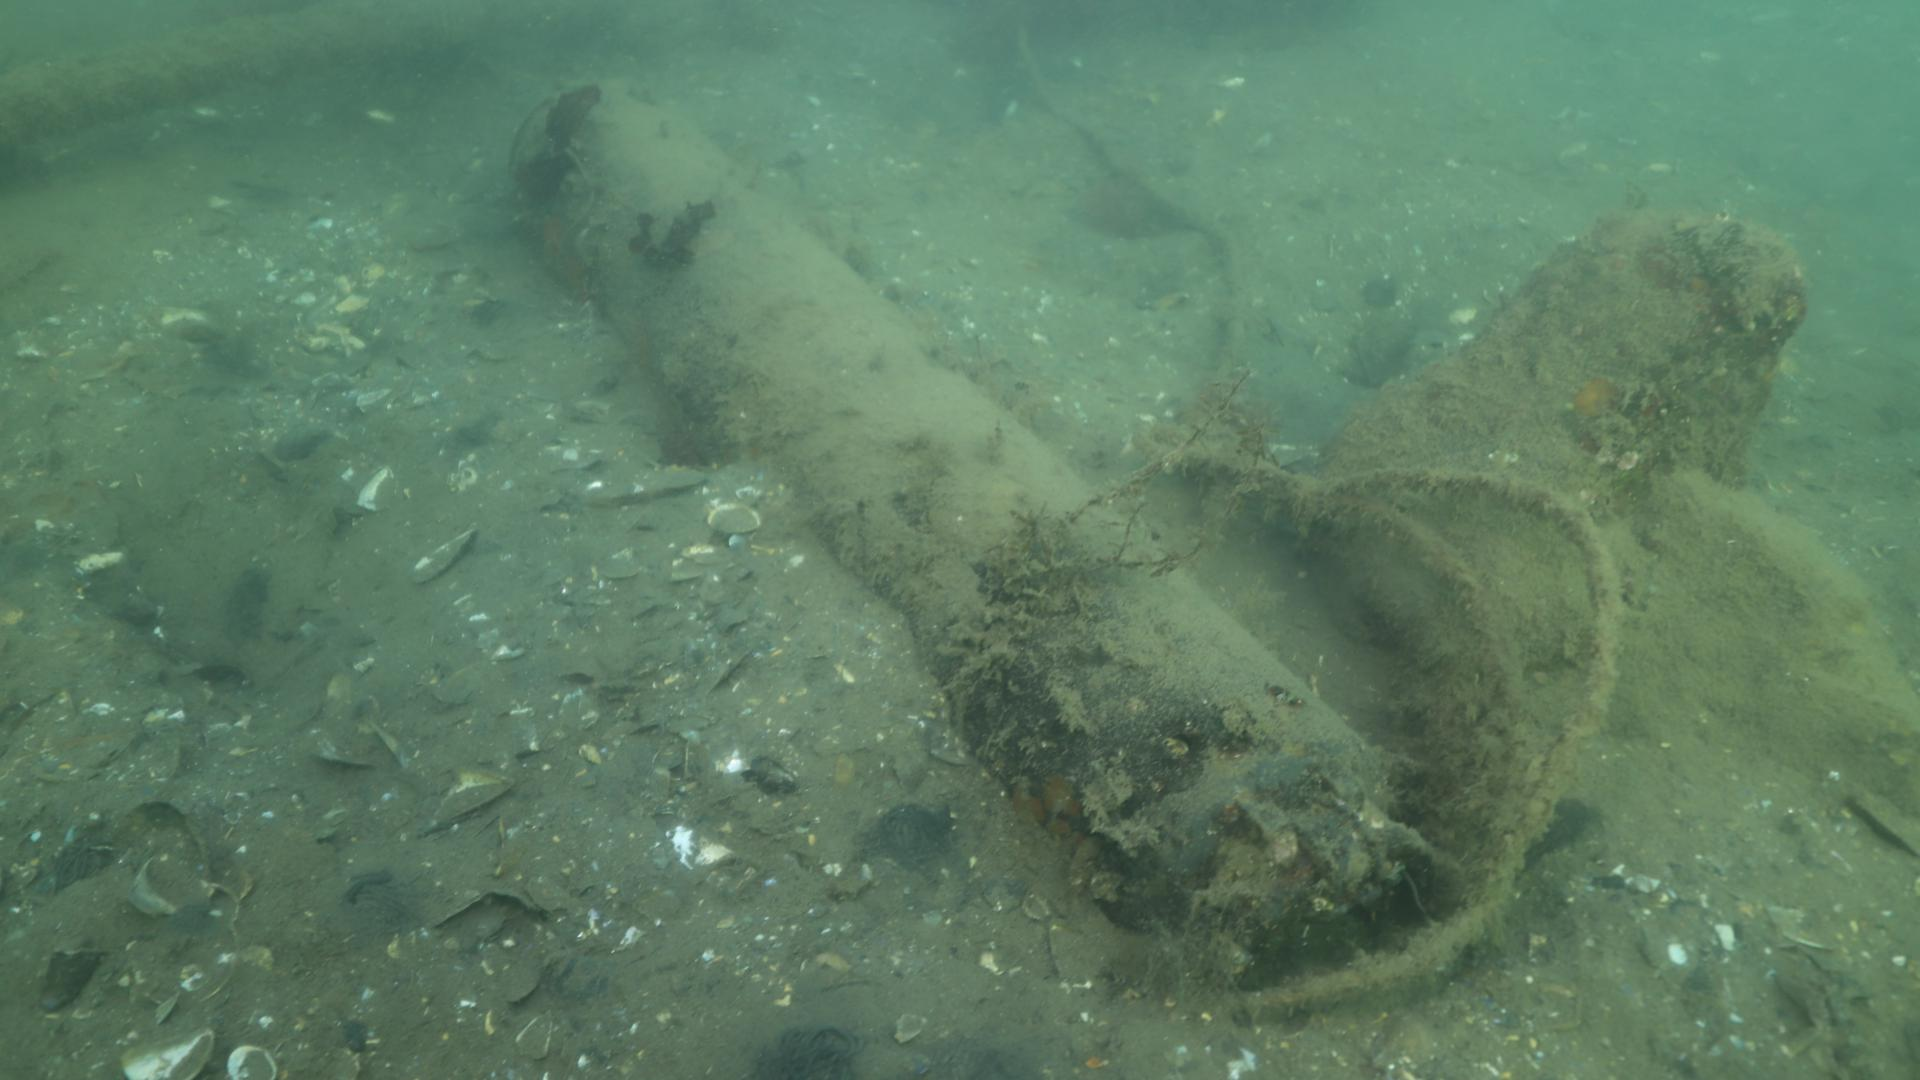bundle of ropes: (1014, 458, 1629, 1010)
eel fish trap: (506, 83, 1400, 959)
